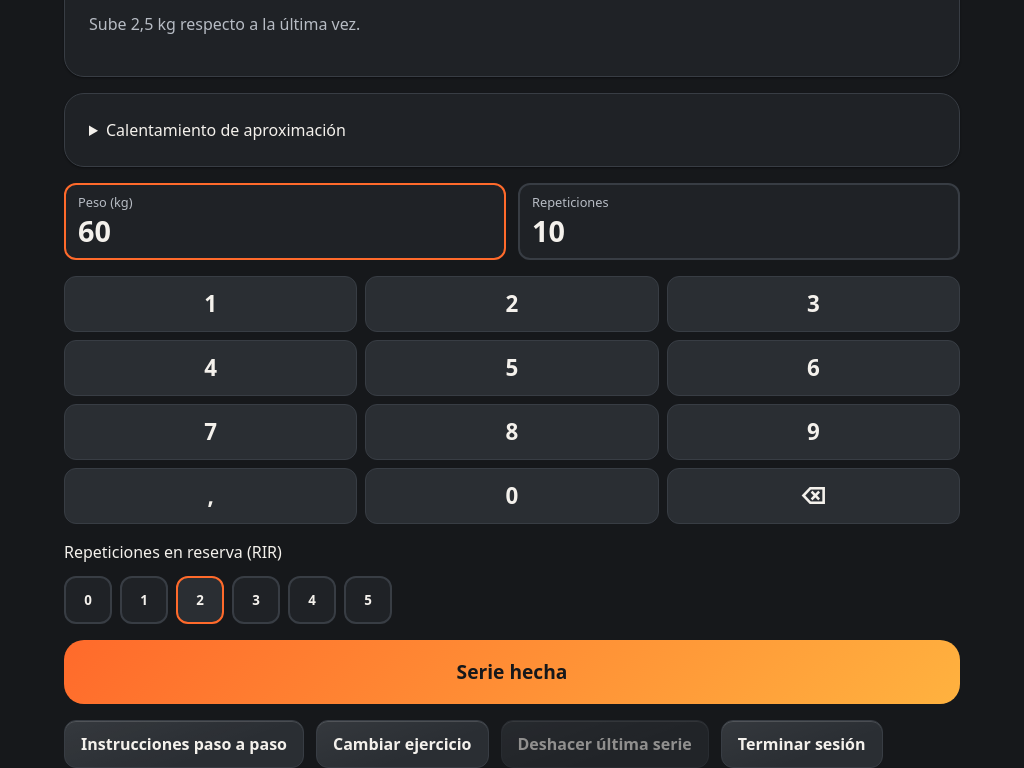
Test: SessionPlayer › instrucciones paso a paso desde el detalle del ejercicio
(page scrolled)
Step 1. Click the button "Instrucciones paso a paso" → {"x": 184, "y": 744}, box [64,720,304,767]
(page scrolled)
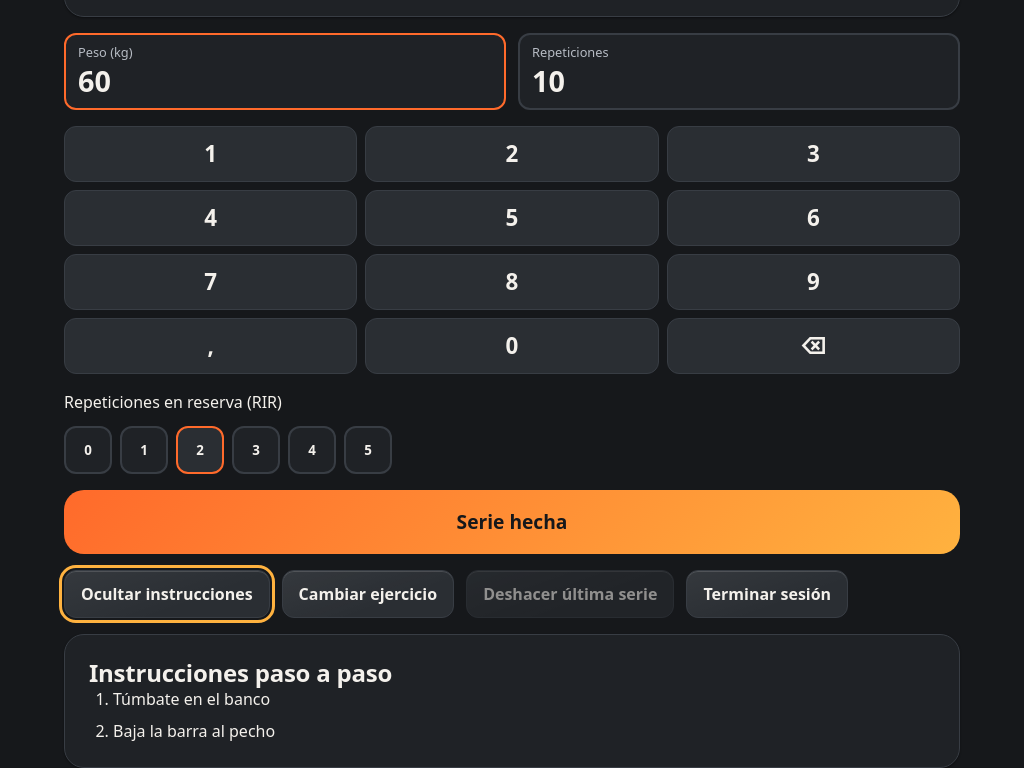
Result: the list item "Baja la barra al pecho" is shown at [113,720,275,742]
